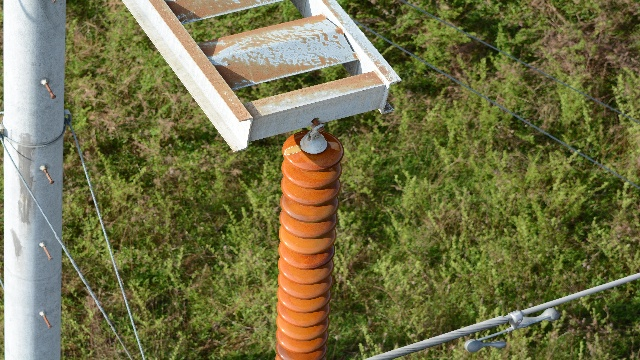insulator_unspecified: (275, 129, 344, 359)
pollution_flashover_local: (281, 144, 301, 157)
